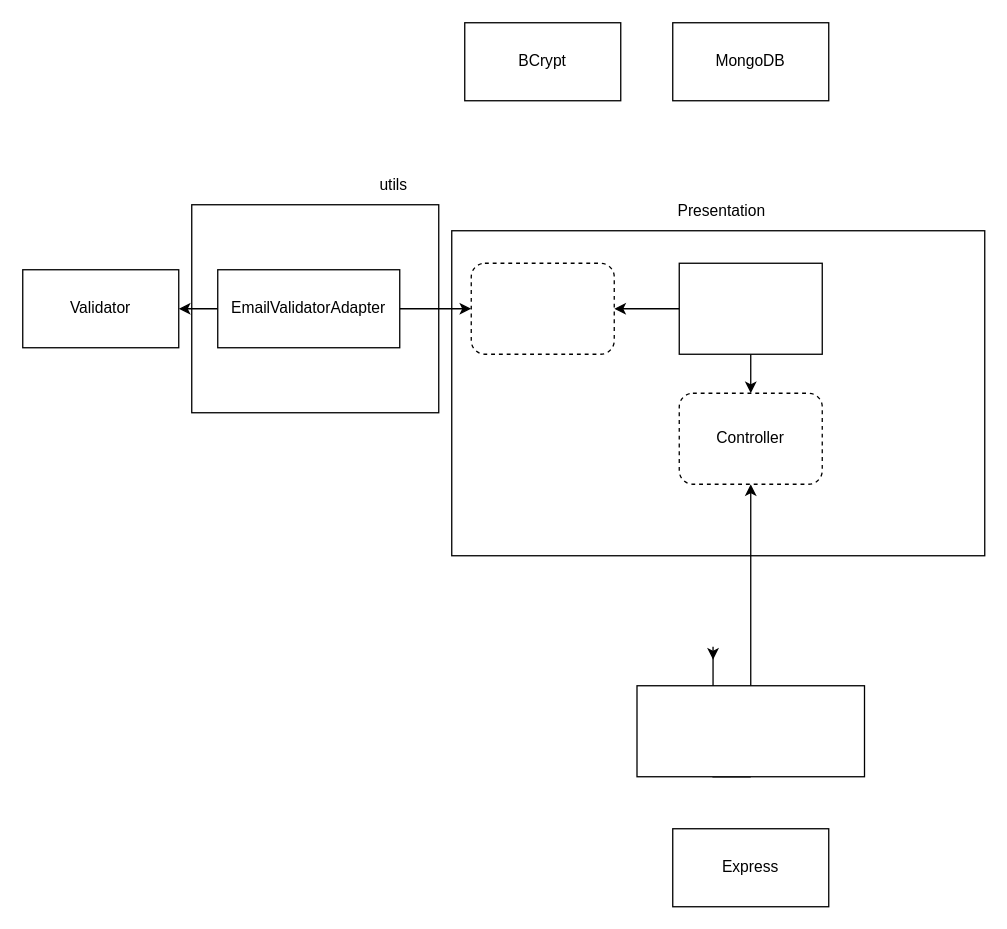
Image size: 1007x929. Some labels were removed from this diagram. Here are the shapes that lost their labels. From the top down, the centre of each, then its label:
At pixel 542 308: "EmailValidator".
At pixel 750 308: "SignUpController".
At pixel 750 730: "ExpressRouteAdapter".
